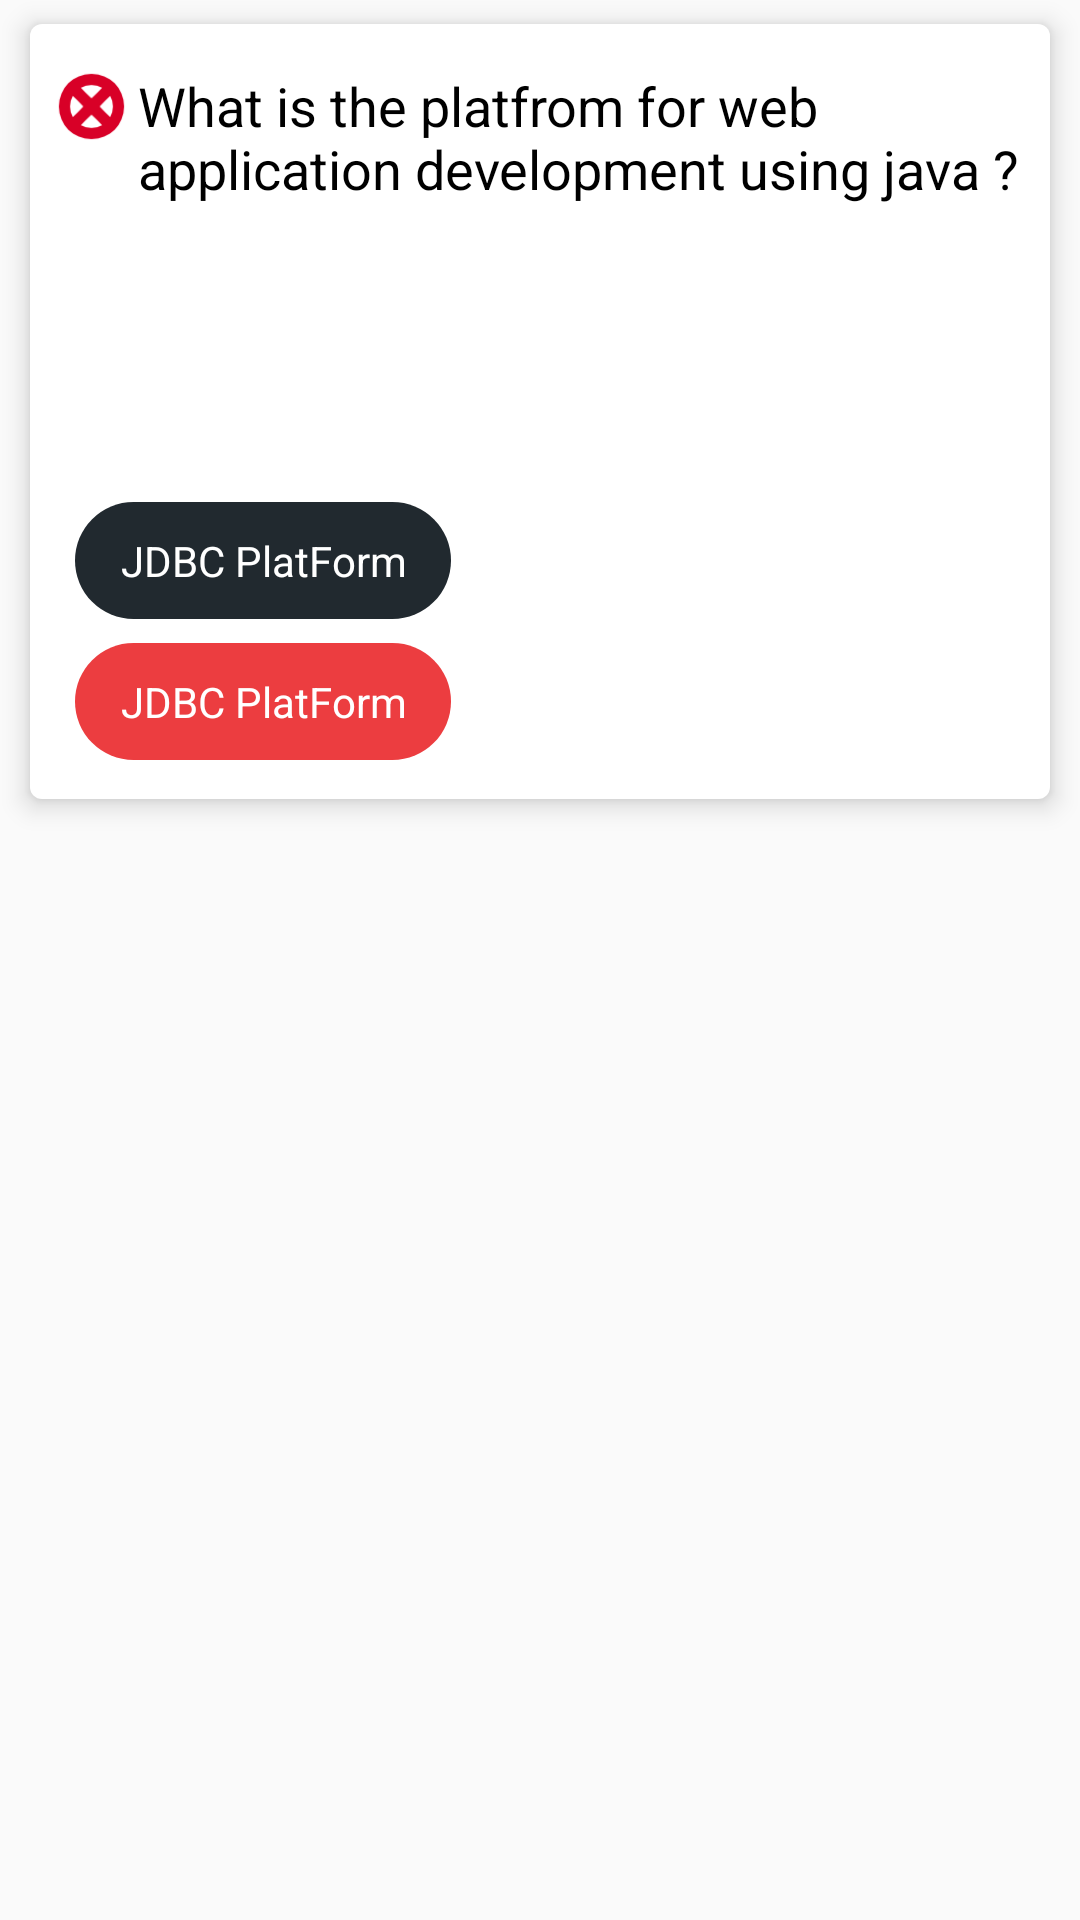

Locate icon controls on the screen. Image size 1080 × 1920, boxes as Rect(x1, y1, x2, y2).
cross: Rect(58, 73, 125, 140)
